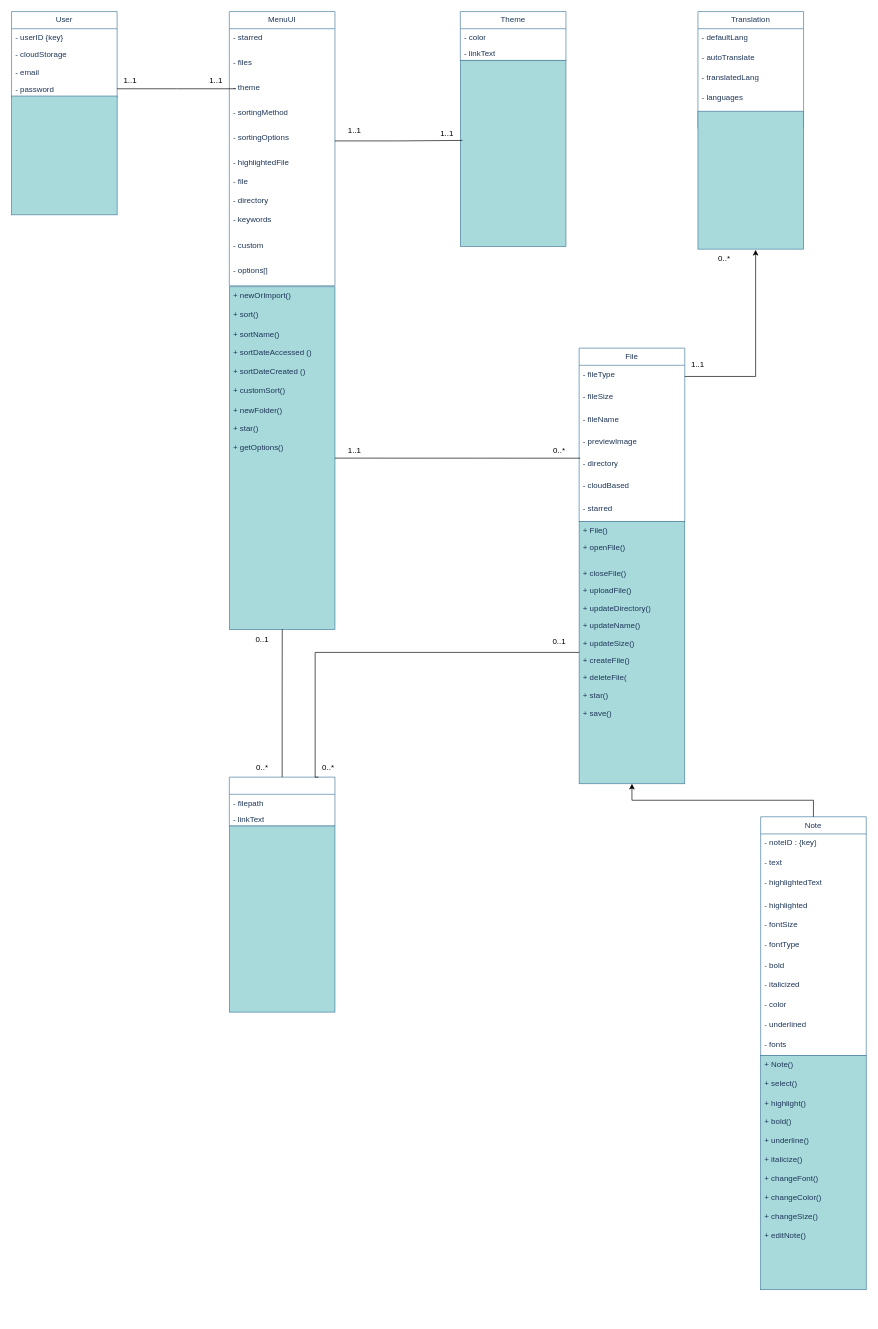
The diagram is 878 pixels wide and 1329 high, and some of its shapes have lost their labels. The box of each missing label's shape, as (x1, y1, x2, y2) in pixels:
+ Keyword() + useKeyword() + updateKeyword() +deleteKeyword(): (229, 825, 335, 1012)
+ Theme() + getTheme() + changeTheme() +deleteTheme() + applyChanges(): (460, 60, 566, 247)
+ Translation() + translate() + delete(): (697, 111, 804, 249)
+ User() + User() + logout(): (11, 95, 117, 215)
Keyword: (229, 776, 335, 826)
